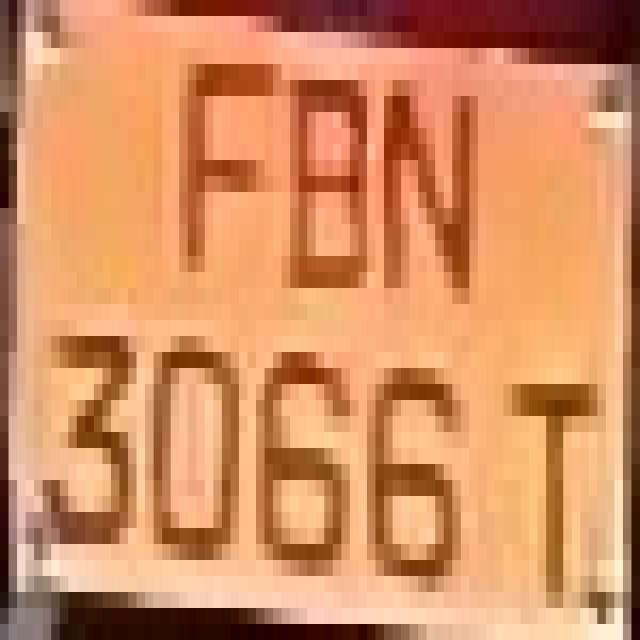0: (145, 288, 239, 592)
3: (34, 288, 128, 576)
6: (256, 272, 358, 608), (5, 8, 6, 16)
B: (265, 32, 384, 320)
F: (154, 16, 282, 320)
N: (358, 32, 486, 320)
T: (486, 320, 606, 608)
